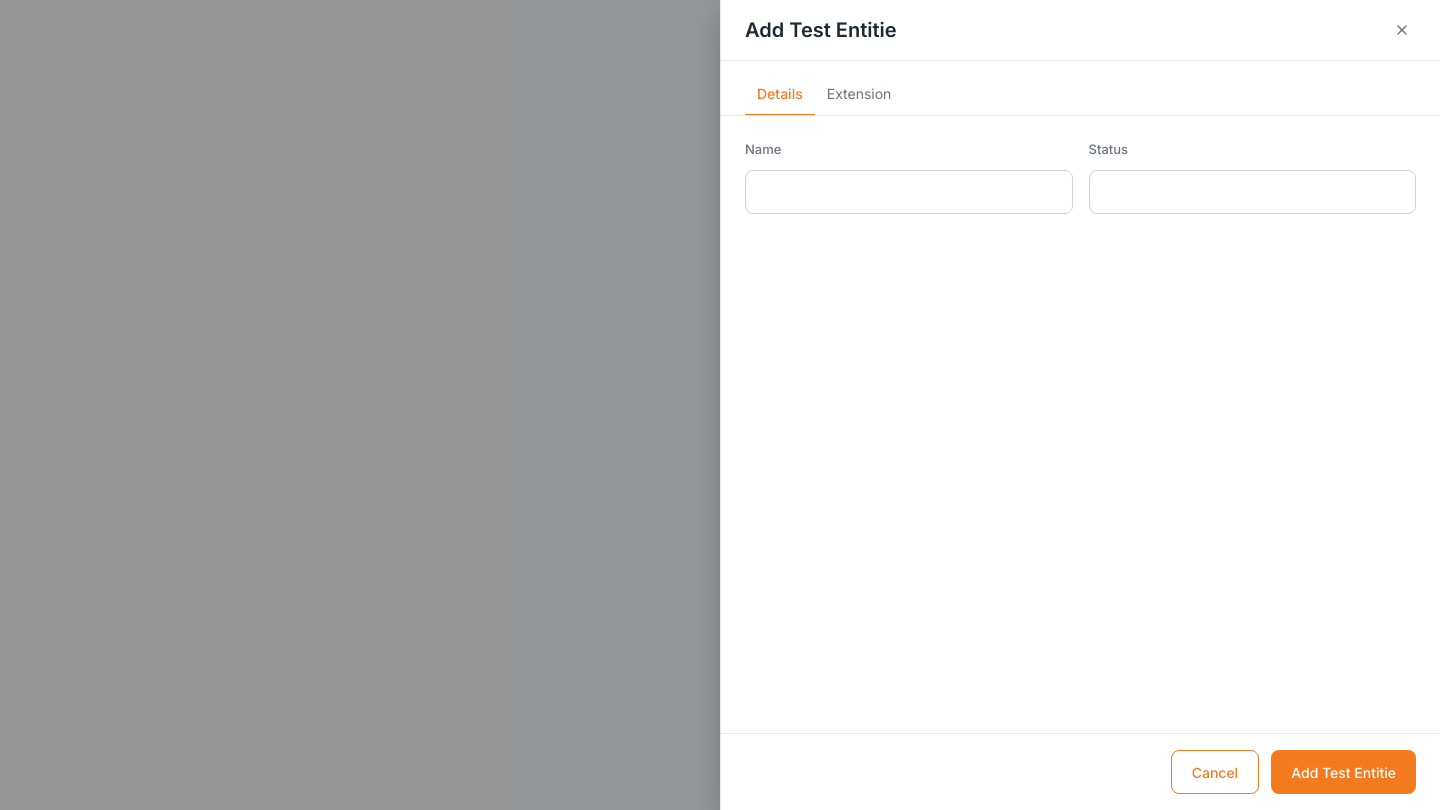
Test case: EntityFormDrawer › form submission with onSave › dismisses error banner when X is clicked
The width and height of the screenshot is (1440, 810).
Submit the form "Details Extension Name Status Cancel Add Test Entitie", box x1=721 y1=61 x2=1439 y2=809
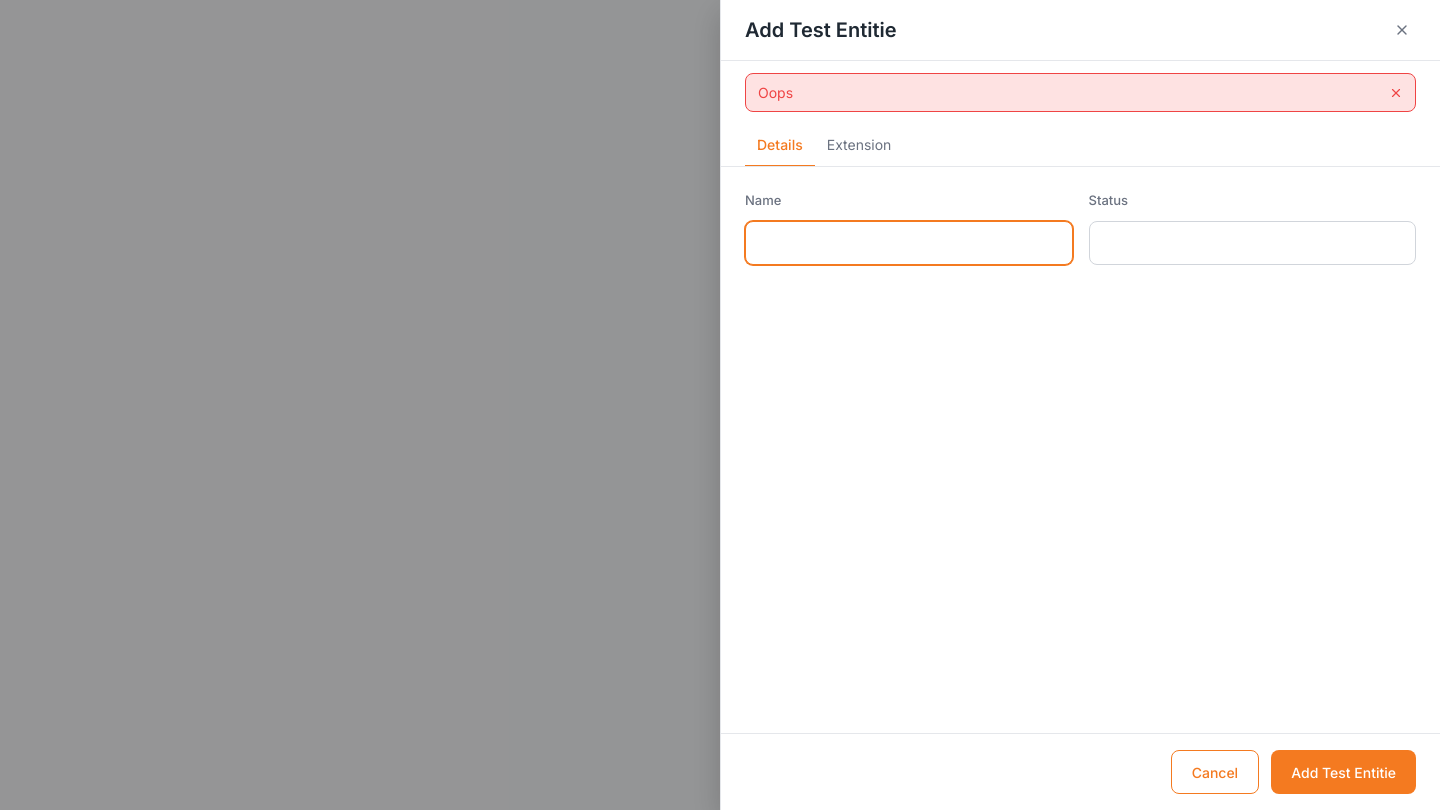
Now the message "Oops" is shown, box x1=745 y1=73 x2=1416 y2=112
Note: Click the dismiss X button inside the alert
Click the button named "Dismiss error" at (1396,92), box x1=1389 y1=86 x2=1403 y2=100
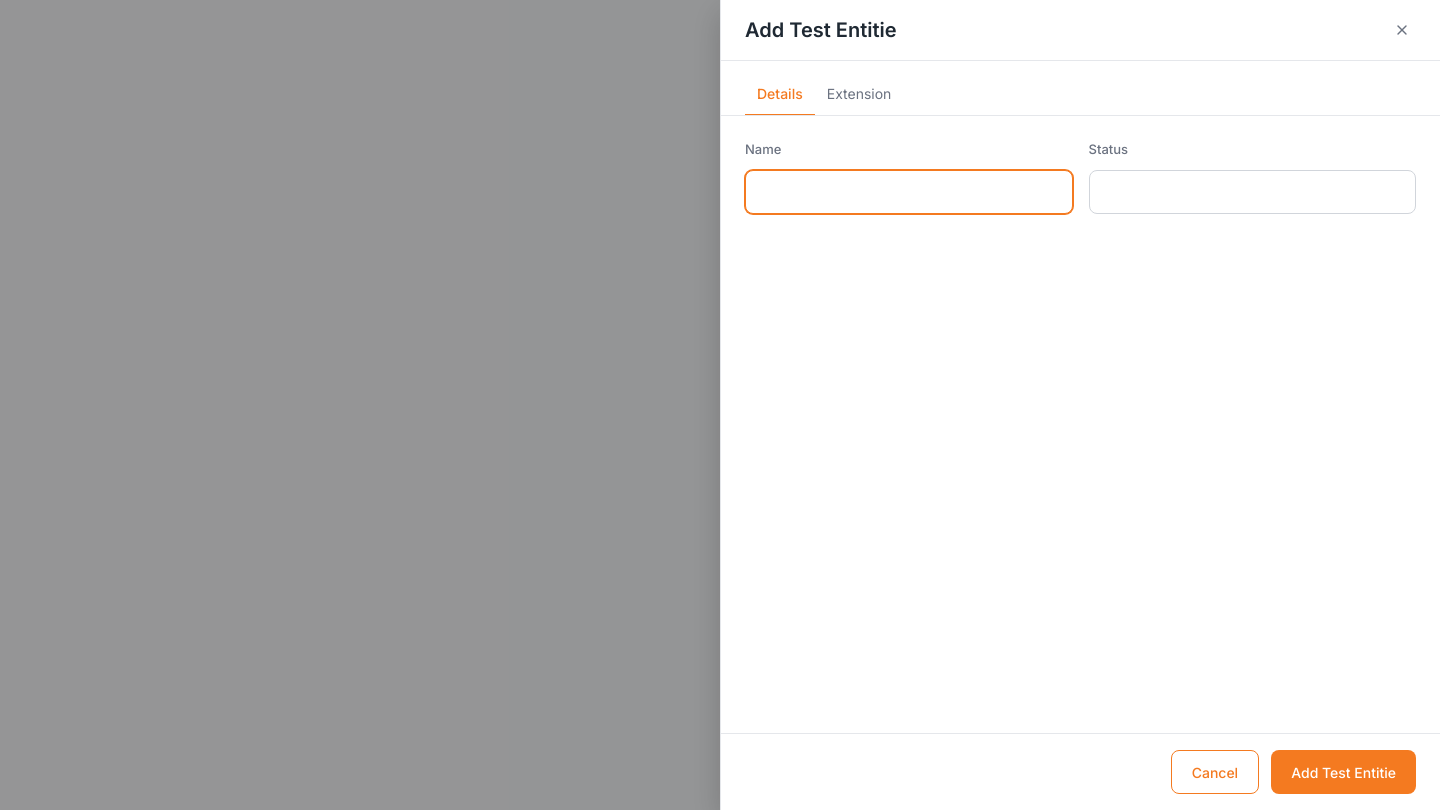
Now the message "Oops" is gone
